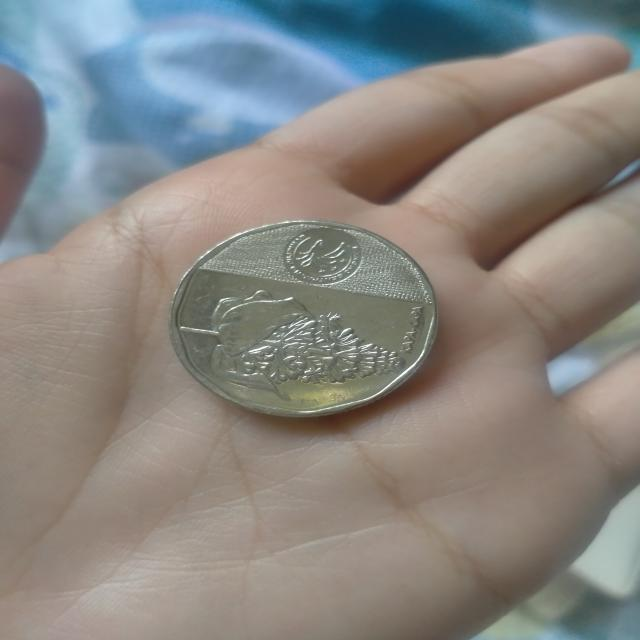10_New_Back: (204, 224, 427, 398)
